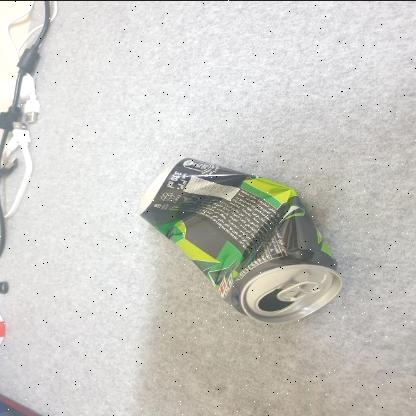Can: (129, 112, 371, 355)
